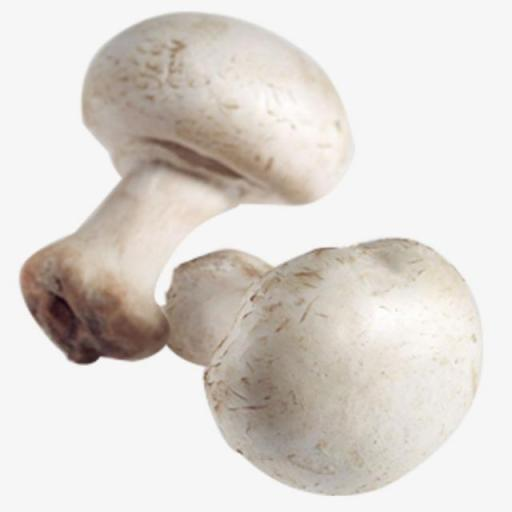mushroom: (20, 11, 353, 362), (164, 237, 483, 497)
